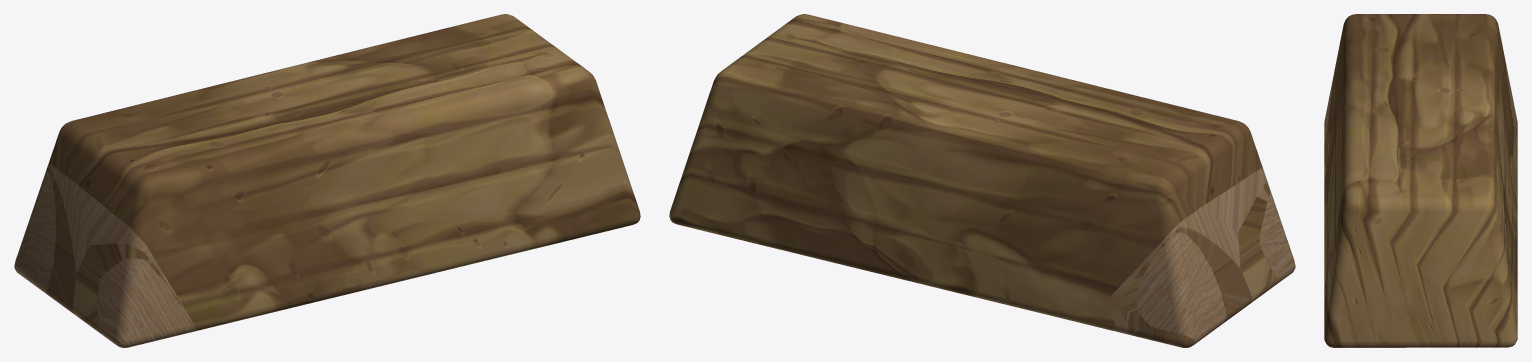
File: MetalIngot.fbx
3 renders of one model, left to right at view 1: azimuth 30°, elevation 25°; view 2: azimuth 150°, elevation 25°; view 3: azimuth 270°, elevation 25°, orthographic. The views are drawn at different scales.
Parts seen in each view (by area): view 1: Ingot.001; view 2: Ingot.001; view 3: Ingot.001.
Part boxes in pixels (x1,y1,x2,y2): Ingot.001: [14, 14, 640, 347]; Ingot.001: [669, 14, 1295, 347]; Ingot.001: [1324, 14, 1517, 347].
Size of the model in its own units: 95.35 by 26.78 by 35.07.
